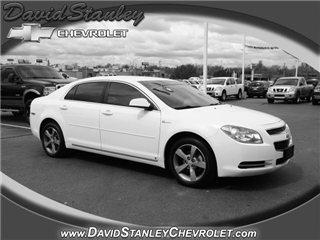car: (29, 74, 294, 188)
